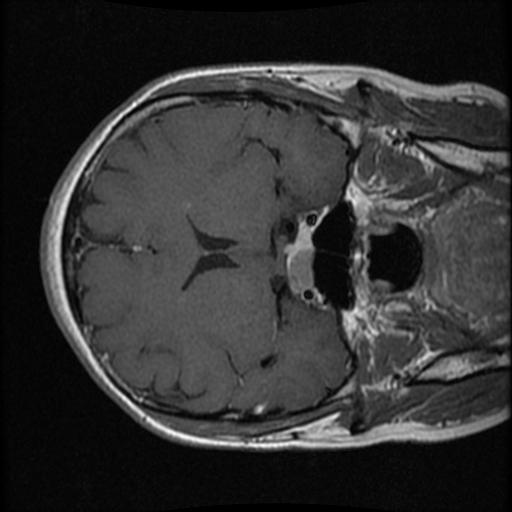pituitary tumour: (283, 229, 314, 293)
